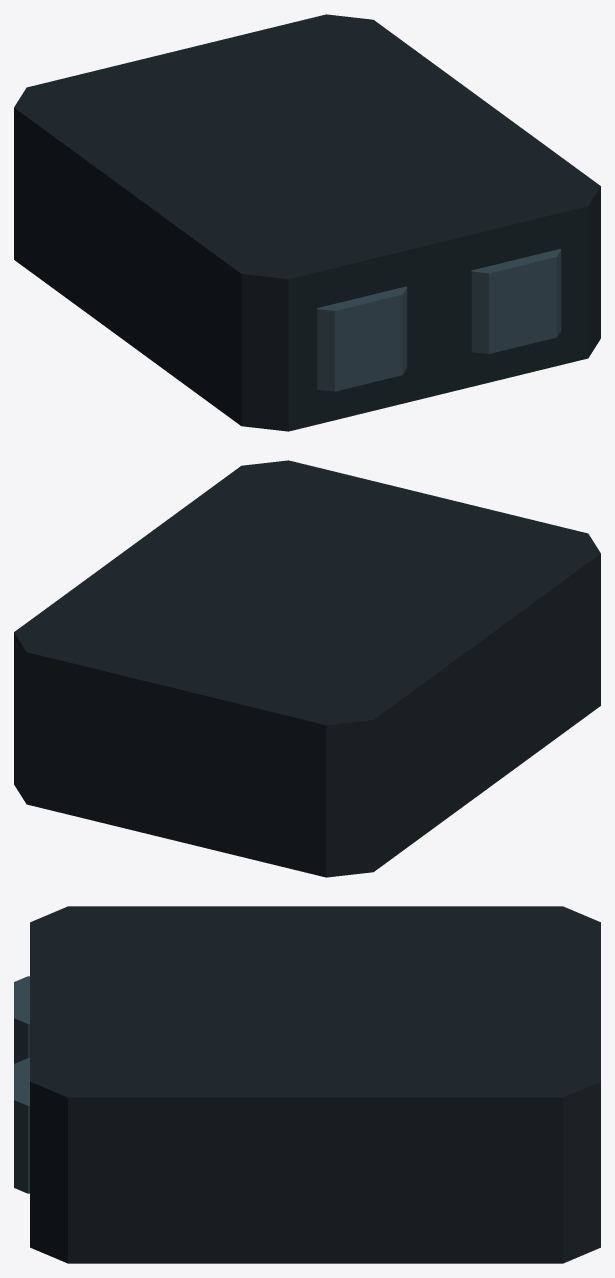
Rendered from enemy_striker_foot_l.obj.
3 views of the same model, one above another, from view 1: azimuth 30°, elevation 25°; view 2: azimuth 150°, elevation 25°; view 3: azimuth 270°, elevation 25° (orthographic). The views are drawn at different scales.
Bounding box in the file's own units: 0.42 × 0.17 × 0.545.
